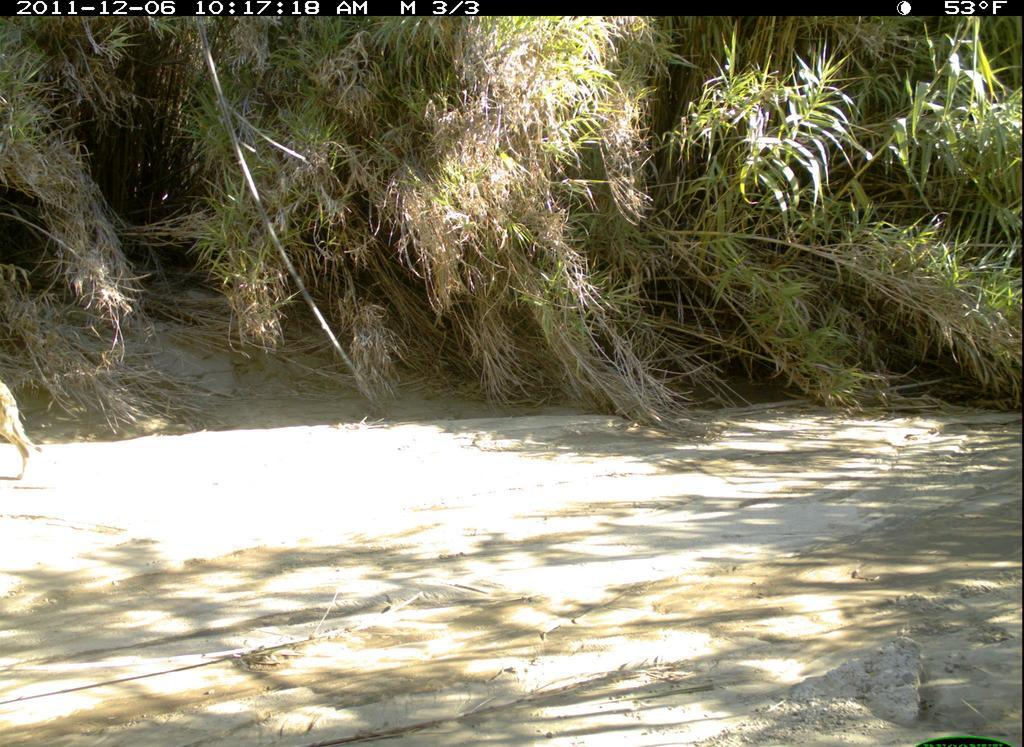coyote: (1, 374, 41, 489)
